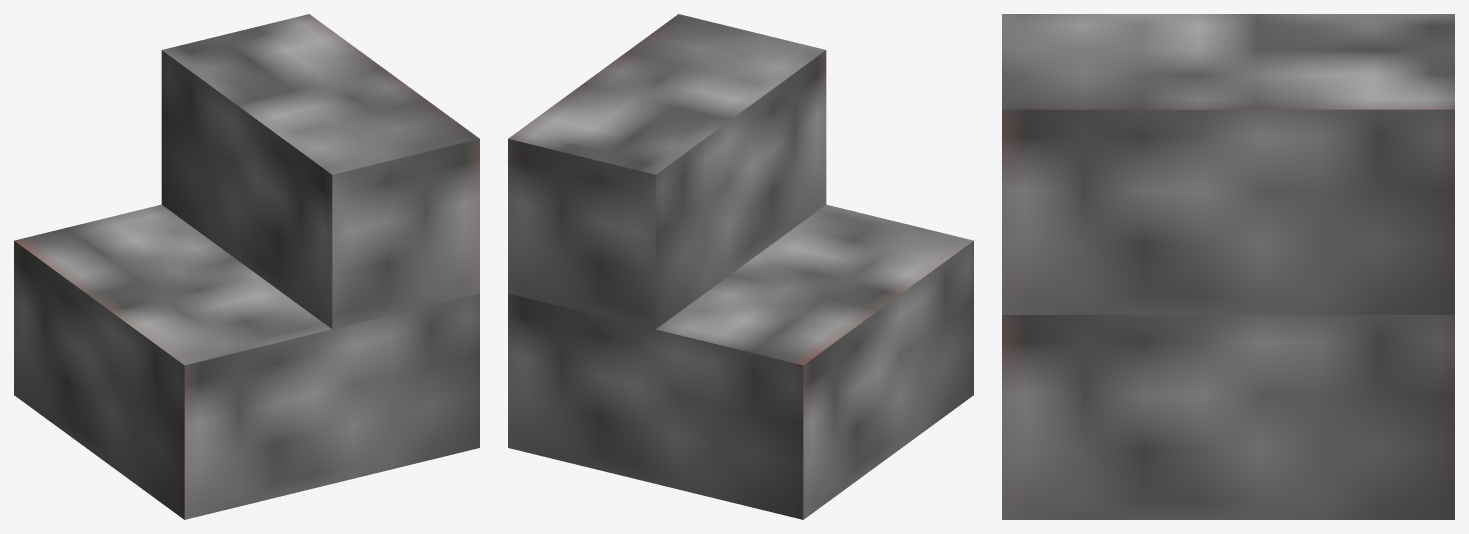
Rendered from Coblestone_Stair_1_Block.fbx.
The picture shows the model from 3 angles, left to right: view 1: azimuth 30°, elevation 25°; view 2: azimuth 150°, elevation 25°; view 3: azimuth 270°, elevation 25°; orthographic projection. The views are drawn at different scales.
Parts seen in each view (by area): view 1: Coblestone_Stair_1_Block; view 2: Coblestone_Stair_1_Block; view 3: Coblestone_Stair_1_Block.
Part boxes in pixels (x1,y1,x2,y2): Coblestone_Stair_1_Block: (14, 14, 479, 519); Coblestone_Stair_1_Block: (508, 14, 973, 519); Coblestone_Stair_1_Block: (1002, 14, 1454, 519).
Bounding box in the file's own units: 25 × 25 × 25.
1 material, 1 textured.
